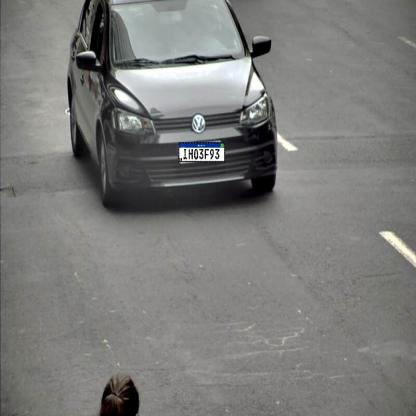PlacaM: (178, 142, 226, 162)
